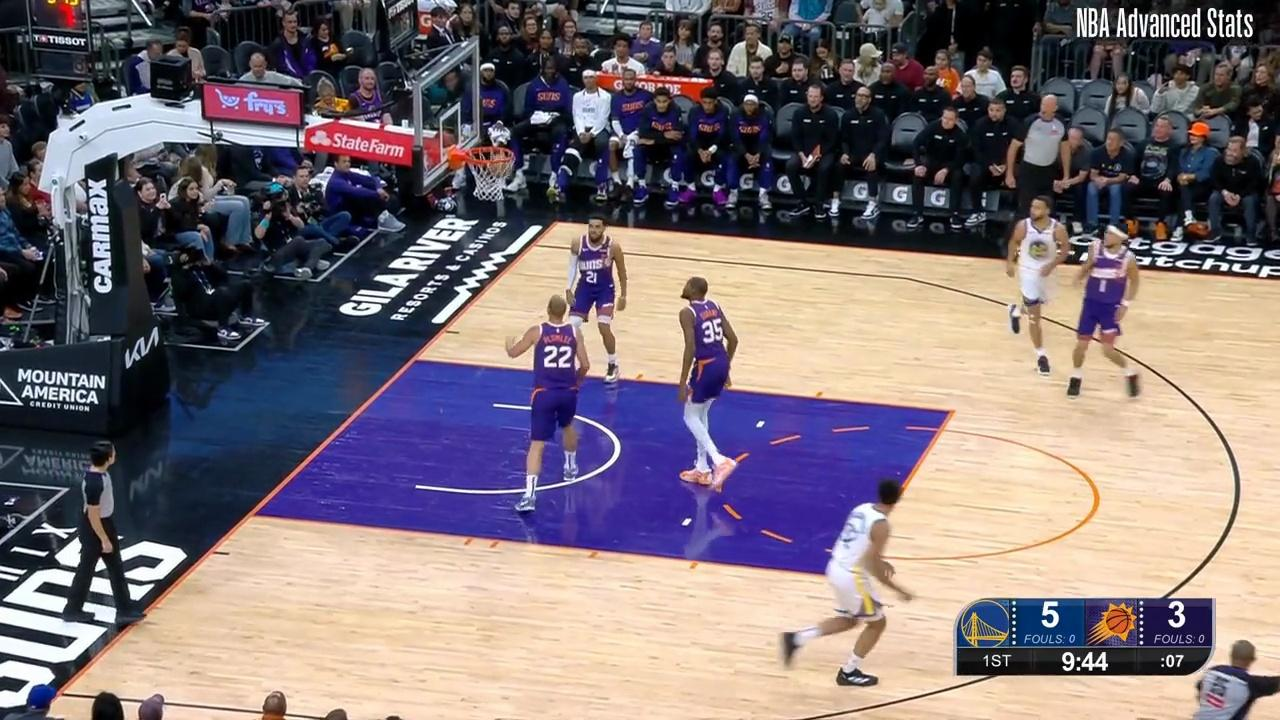basketball: (492, 153, 513, 173)
